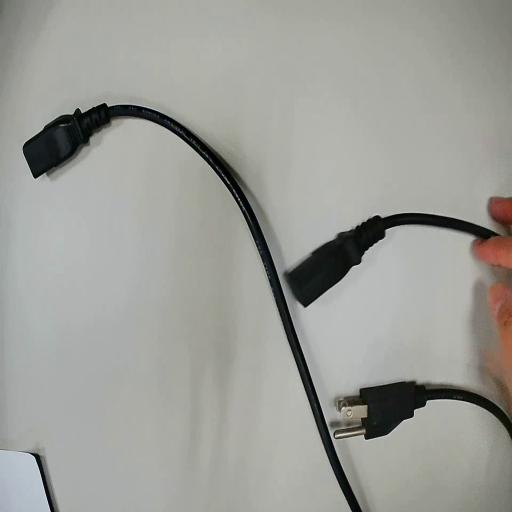wire: (24, 104, 361, 511), (286, 214, 498, 305), (348, 382, 511, 437)
